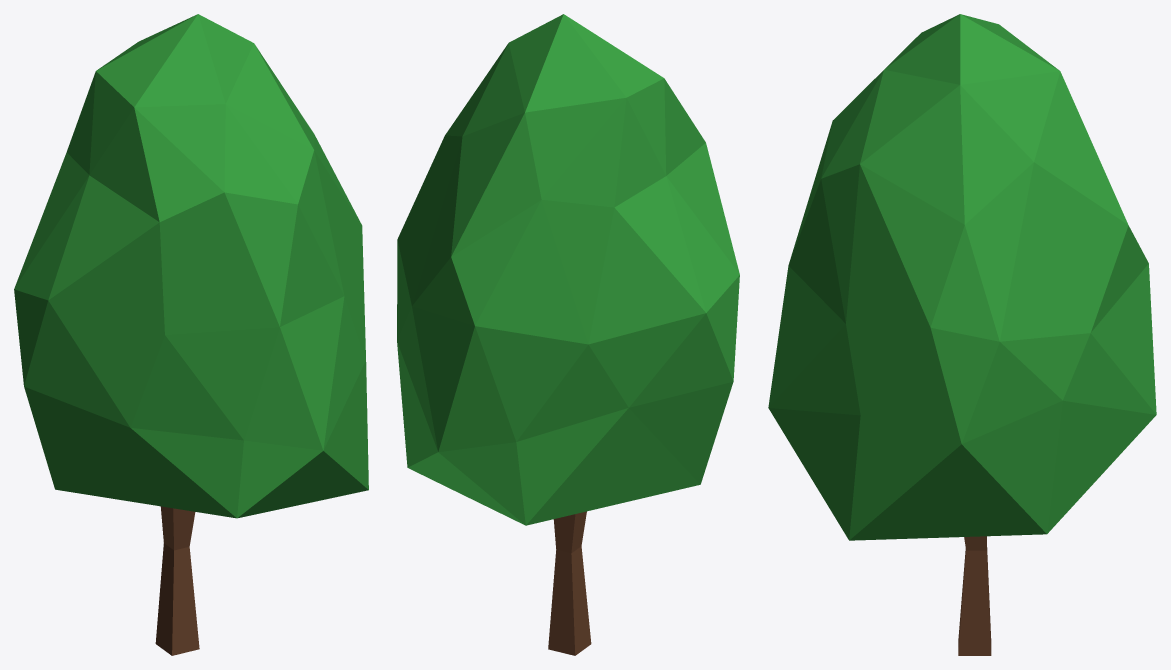
Rendered from Tree_56_Green.fbx.
The picture shows the model from 3 angles, left to right: view 1: azimuth 30°, elevation 25°; view 2: azimuth 150°, elevation 25°; view 3: azimuth 270°, elevation 25°; orthographic projection. The views are drawn at different scales.
Visible parts, largest first — view 1: Tree_56_Green_Part_1, Tree_56_Green_Part_2; view 2: Tree_56_Green_Part_1, Tree_56_Green_Part_2; view 3: Tree_56_Green_Part_1, Tree_56_Green_Part_2.
Boxes of the visible parts, x1=… form: Tree_56_Green_Part_1: x1=14, y1=14, x2=368, y2=518; Tree_56_Green_Part_2: x1=155, y1=506, x2=199, y2=655; Tree_56_Green_Part_1: x1=397, y1=14, x2=739, y2=525; Tree_56_Green_Part_2: x1=548, y1=511, x2=591, y2=655; Tree_56_Green_Part_1: x1=768, y1=14, x2=1156, y2=540; Tree_56_Green_Part_2: x1=958, y1=536, x2=991, y2=655.
Size of the model in its own units: 336 by 599 by 329.
